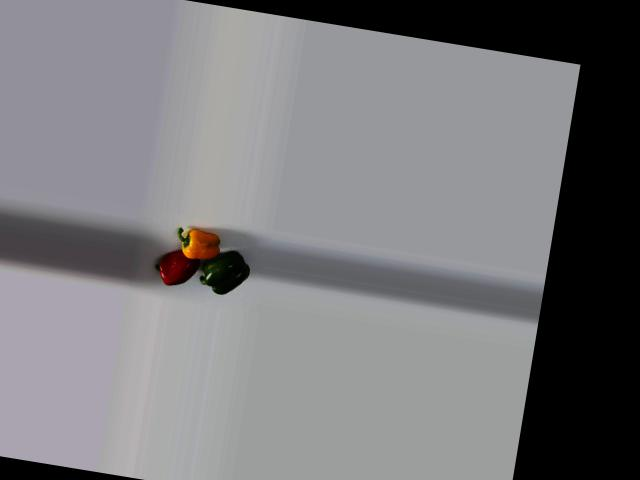bell_pepper: (172, 222, 223, 269)
